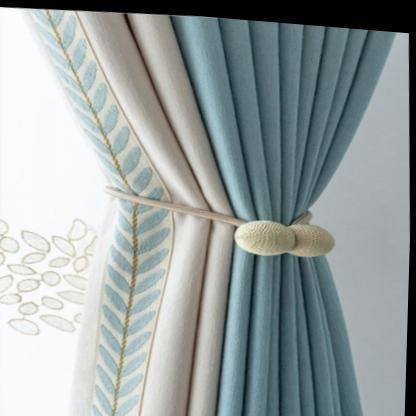Curtains: (23, 8, 397, 416)
